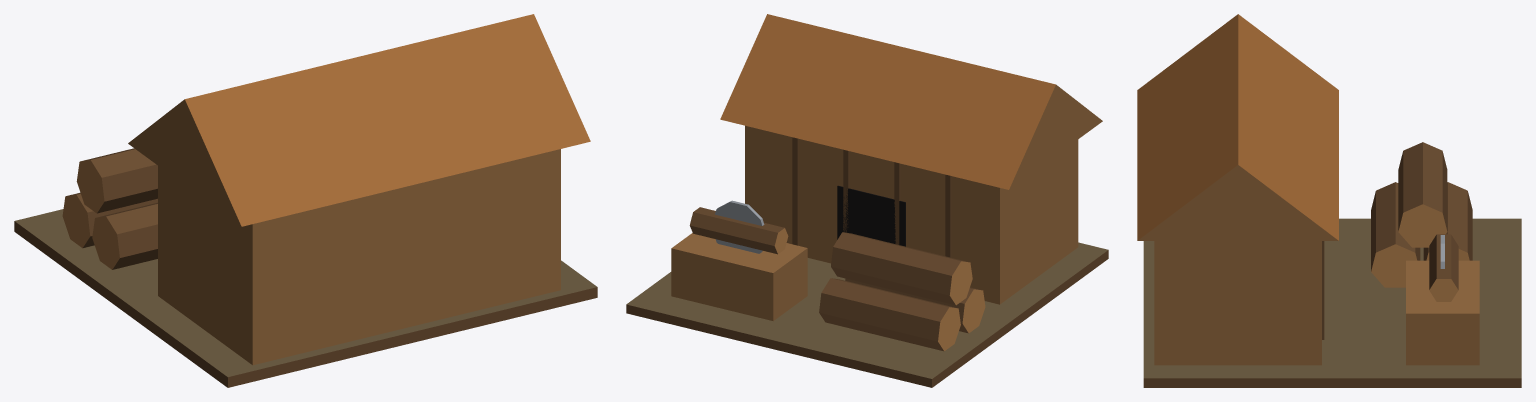
Rendered from lumber_camp.glb.
3 renders of one model, left to right at view 1: azimuth 30°, elevation 25°; view 2: azimuth 150°, elevation 25°; view 3: azimuth 270°, elevation 25°, orthographic. The views are drawn at different scales.
Visible parts, largest first — view 1: lumber_camp; view 2: lumber_camp; view 3: lumber_camp.
Part boxes in pixels (<box>): lumber_camp: <box>14,14,597,387</box>; lumber_camp: <box>626,14,1108,387</box>; lumber_camp: <box>1137,14,1521,387</box>.
Bounding box in the file's own units: 1.8 × 1.15 × 1.83.
